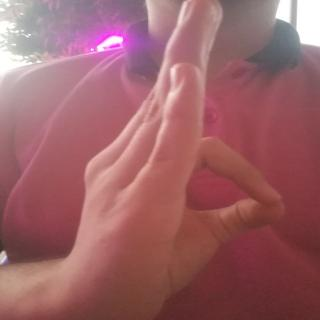Space: (74, 0, 294, 315)
